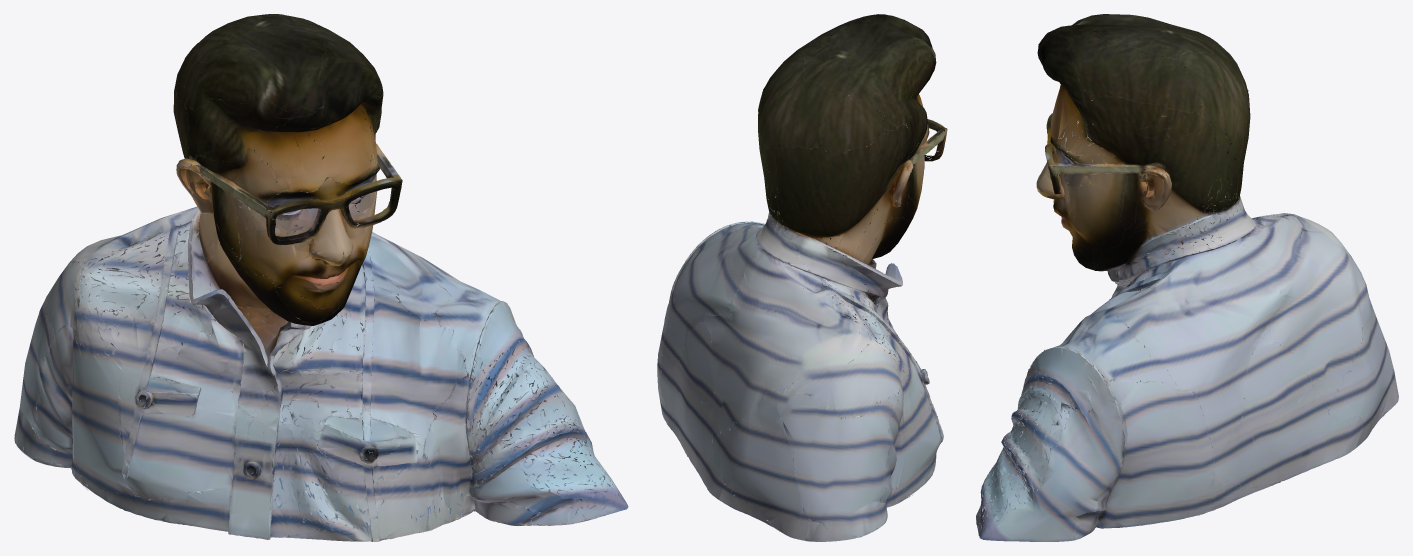
File: me_original.glb
3 views of the same model, side by side, from view 1: azimuth 30°, elevation 25°; view 2: azimuth 150°, elevation 25°; view 3: azimuth 270°, elevation 25° (orthographic). The views are drawn at different scales.
Visible parts, largest first — view 1: texture_pbr_v128; view 2: texture_pbr_v128; view 3: texture_pbr_v128.
Part boxes in pixels (left/top/right/bottom): texture_pbr_v128: left=14, top=14, right=628, bottom=541; texture_pbr_v128: left=657, top=14, right=947, bottom=541; texture_pbr_v128: left=976, top=14, right=1398, bottom=541.
Size of the model in its own units: 0.6636 by 0.7474 by 0.7005.
1 material, 1 textured.
